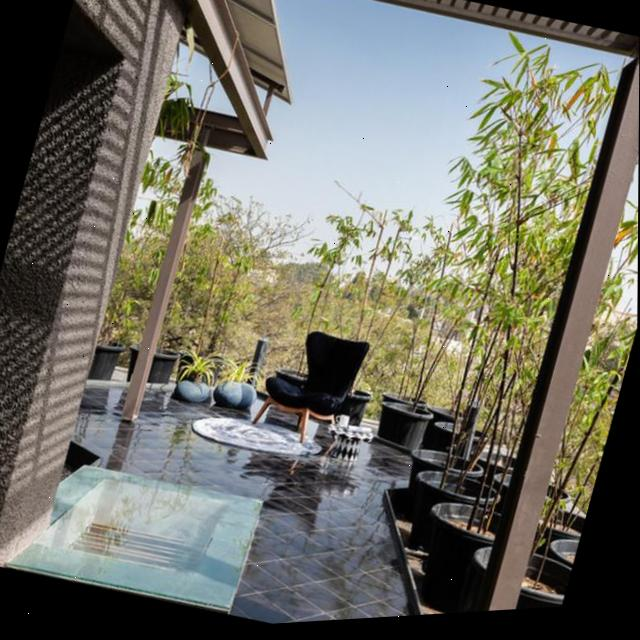building: (0, 0, 326, 609)
